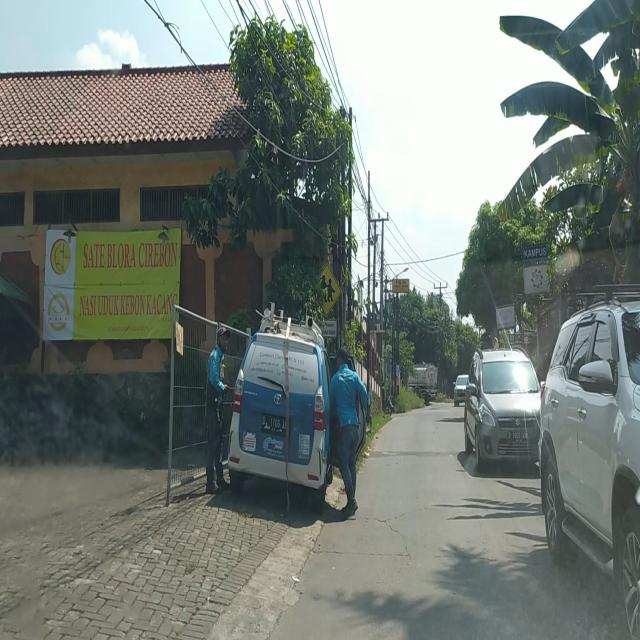Sewer Cover: (349, 510, 408, 541), (306, 546, 412, 560)
